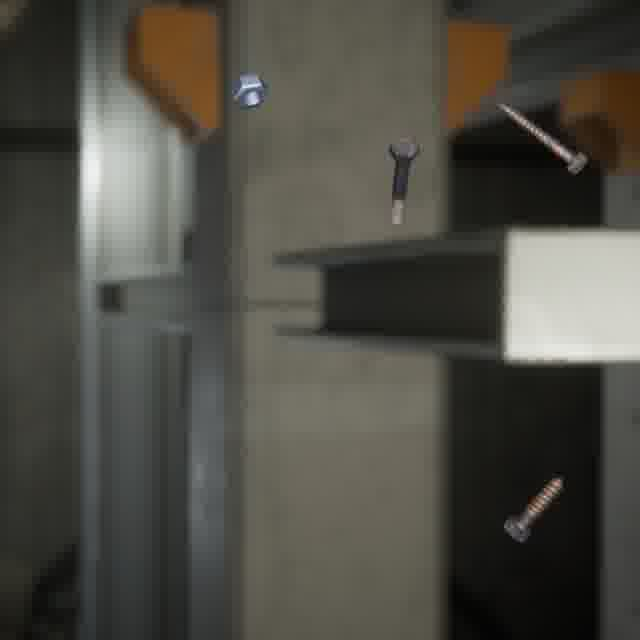bolt: (493, 97, 592, 179), (498, 473, 567, 547), (384, 131, 424, 229)
nut: (226, 70, 273, 113)
